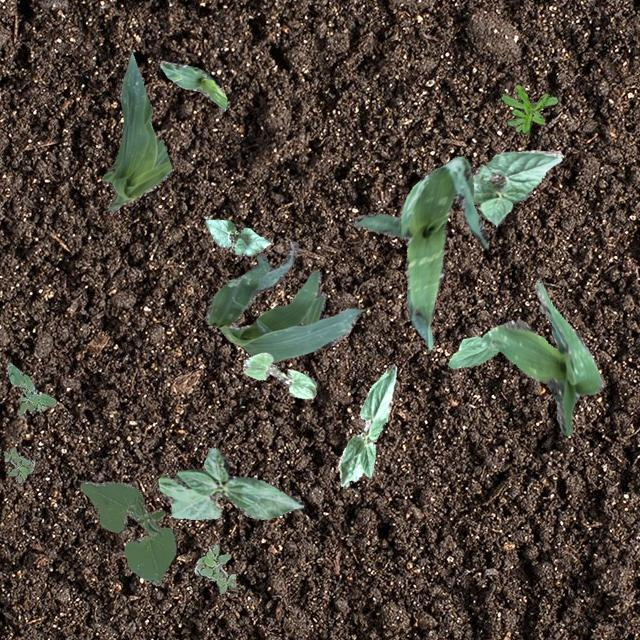crop: (354, 154, 488, 348), (204, 238, 364, 362), (480, 278, 602, 434), (100, 52, 170, 210), (158, 446, 304, 518), (80, 480, 176, 584), (336, 364, 396, 486), (472, 150, 562, 226), (242, 352, 316, 398), (160, 60, 226, 110), (203, 218, 270, 256), (446, 336, 498, 368)
weed: (499, 84, 556, 134), (6, 362, 56, 414), (193, 542, 234, 592), (2, 446, 34, 482)
